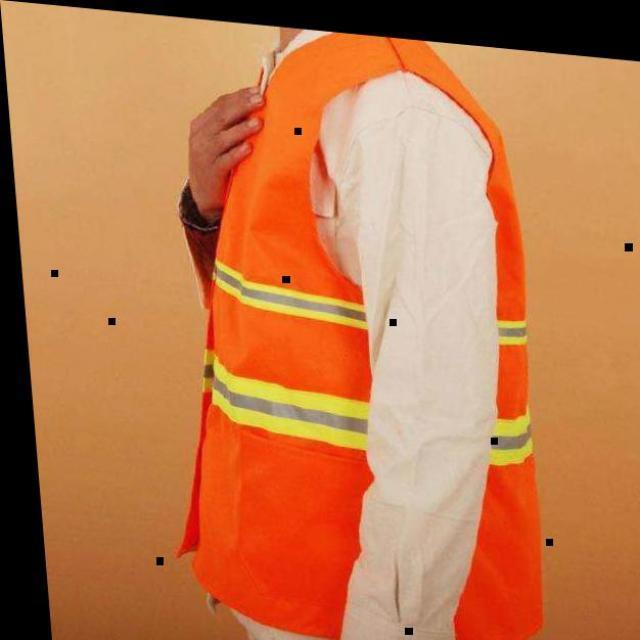safety_helmet: (180, 38, 540, 640)
